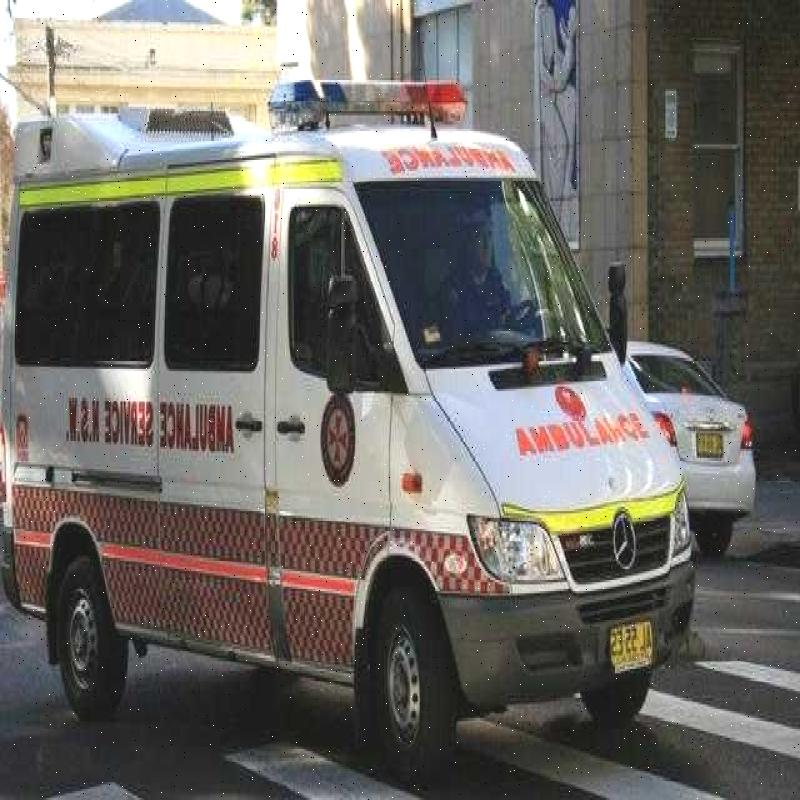AmbulanceSiren: (272, 64, 475, 132)
